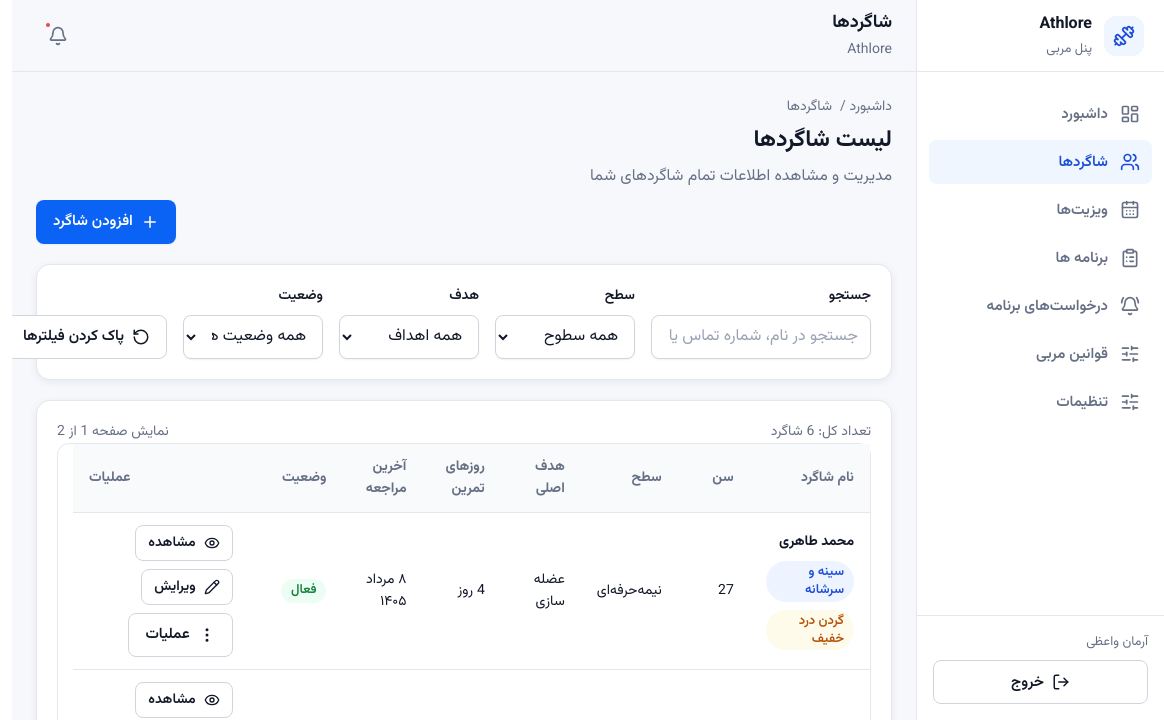
Test: StudentsListPage › navigates to the edit route
What coordinates should you click on to do the following:
click the button "ویرایش"
I would click on:
 (187, 587)
Its box is [141,569,233,605].
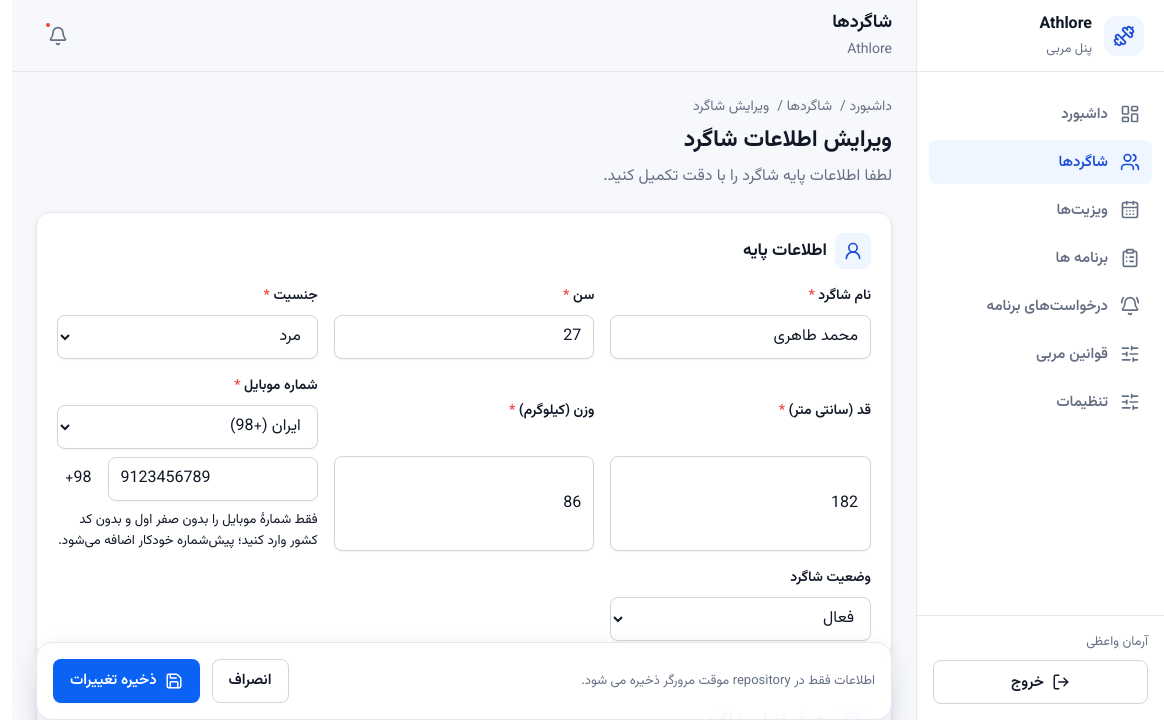
Expected: the heading "ویرایش اطلاعات شاگرد" is shown, [684,122,892,158]
